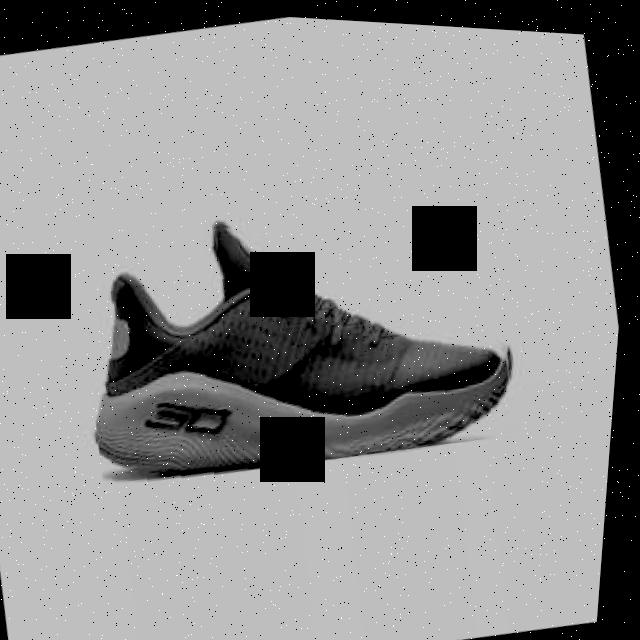shoe: (64, 162, 543, 507)
